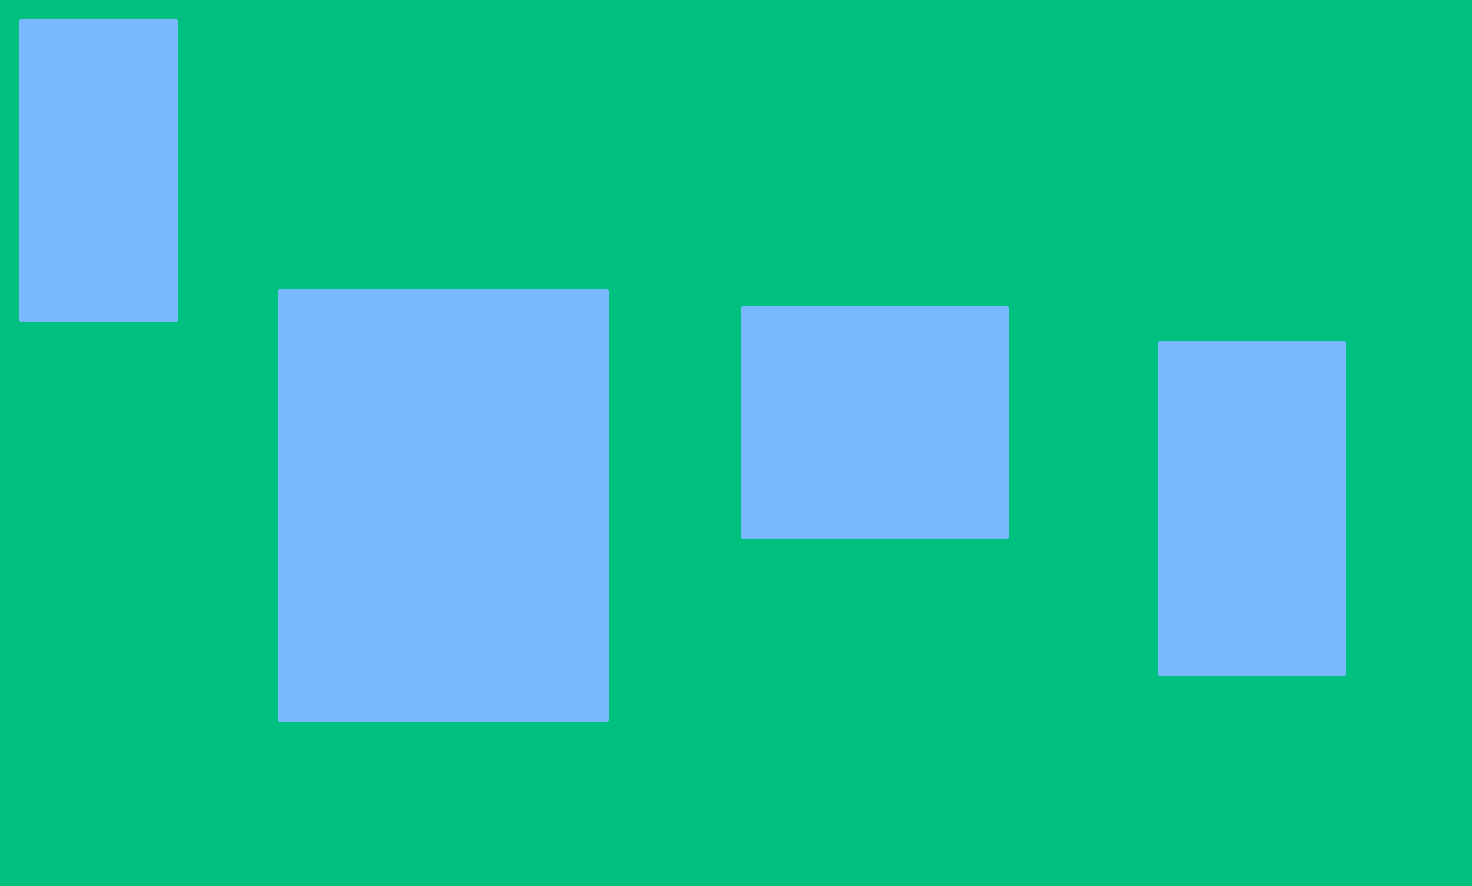Text_area: (279, 290, 607, 720), (1159, 342, 1344, 674), (742, 307, 1007, 537), (20, 20, 176, 320)
